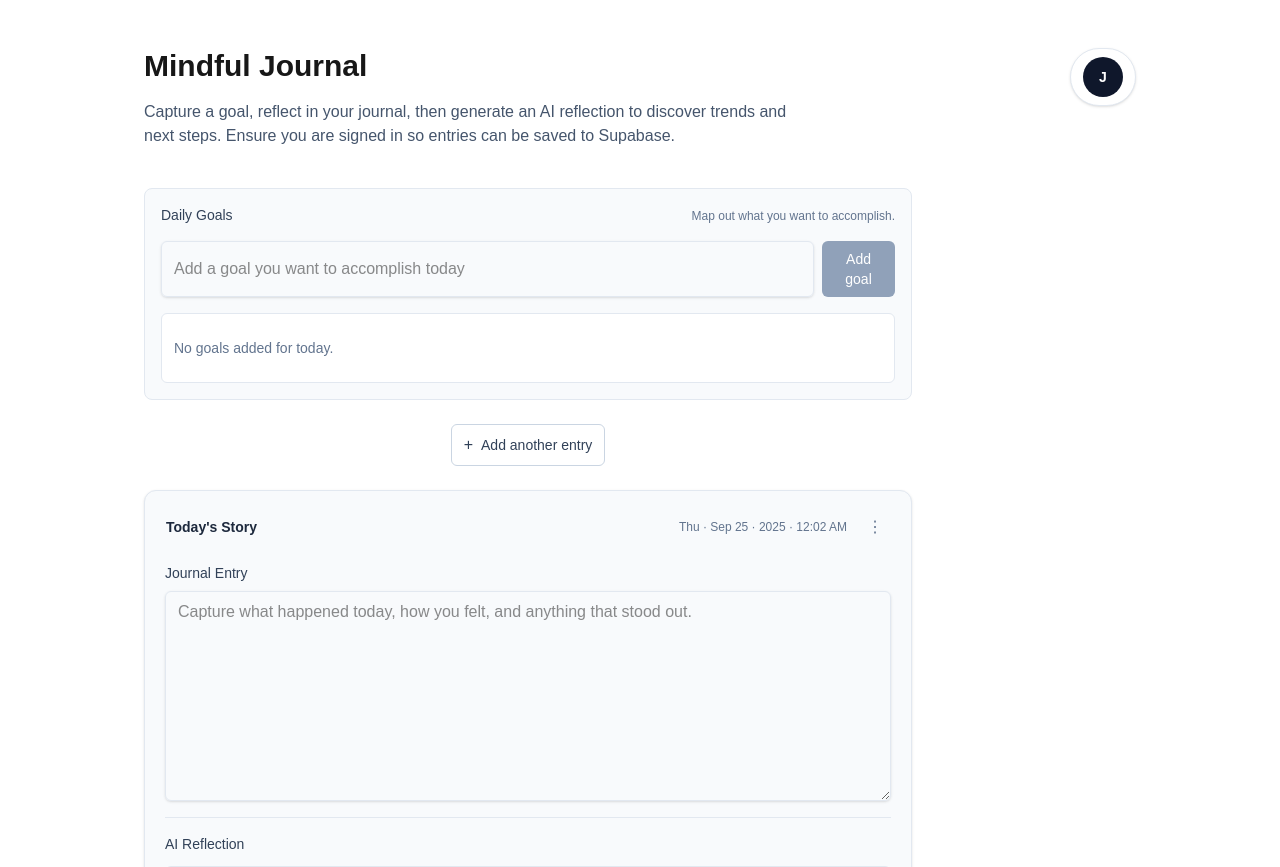
Test case: Home page › allows adding additional story entries
Expected: the number of text boxes labelled "Journal Entry" is 1, [165, 591, 891, 801]
Click the button "+ Add another entry": {"x": 528, "y": 445} [451, 424, 605, 466]
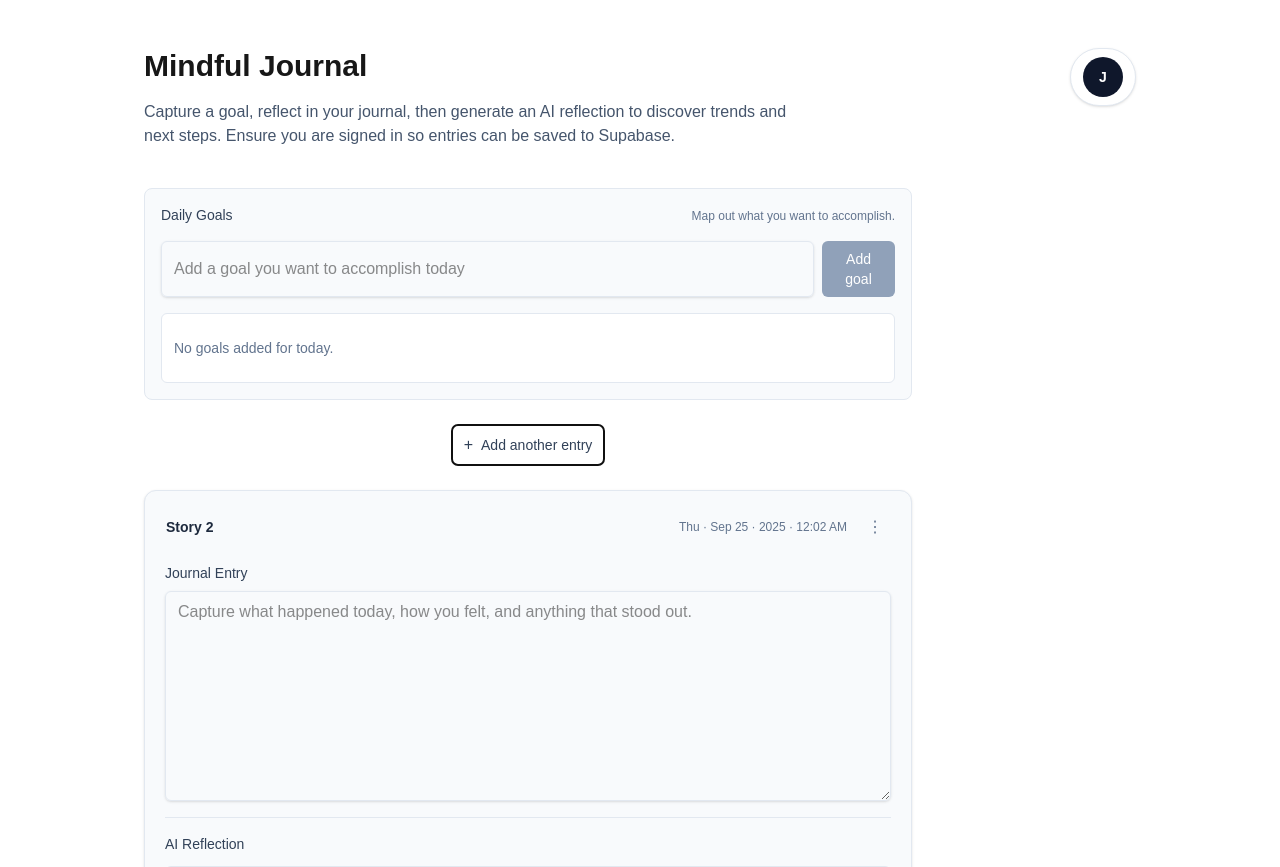
Result: the field showing "Story 2" is shown at [165, 516, 671, 538]
